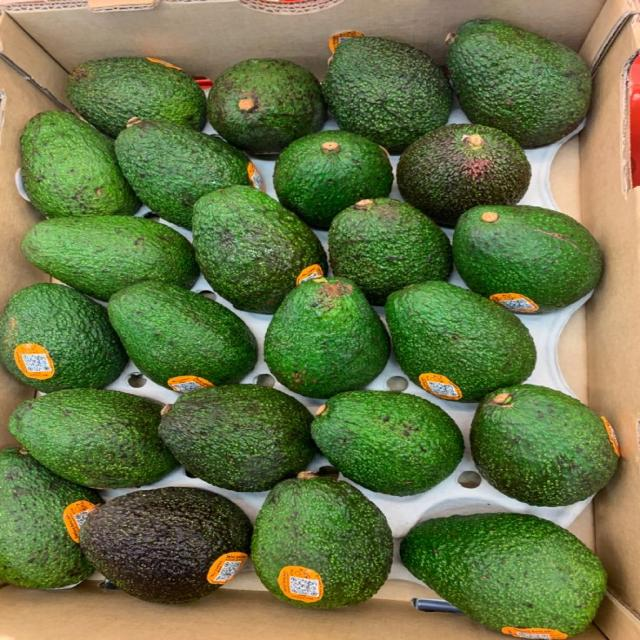avocado: (400, 513, 606, 638), (80, 487, 251, 603), (252, 473, 393, 609), (447, 20, 591, 147), (386, 281, 535, 401), (471, 385, 618, 506), (194, 186, 326, 313), (9, 389, 176, 488), (160, 385, 314, 491), (108, 282, 257, 391), (453, 205, 602, 312), (312, 391, 464, 495), (22, 216, 199, 300), (115, 119, 251, 228), (265, 278, 389, 397), (323, 37, 452, 151), (0, 449, 101, 589), (397, 124, 531, 226), (0, 284, 126, 392), (329, 198, 452, 305), (21, 111, 139, 217), (274, 131, 393, 228), (67, 57, 206, 138), (207, 59, 326, 153)
